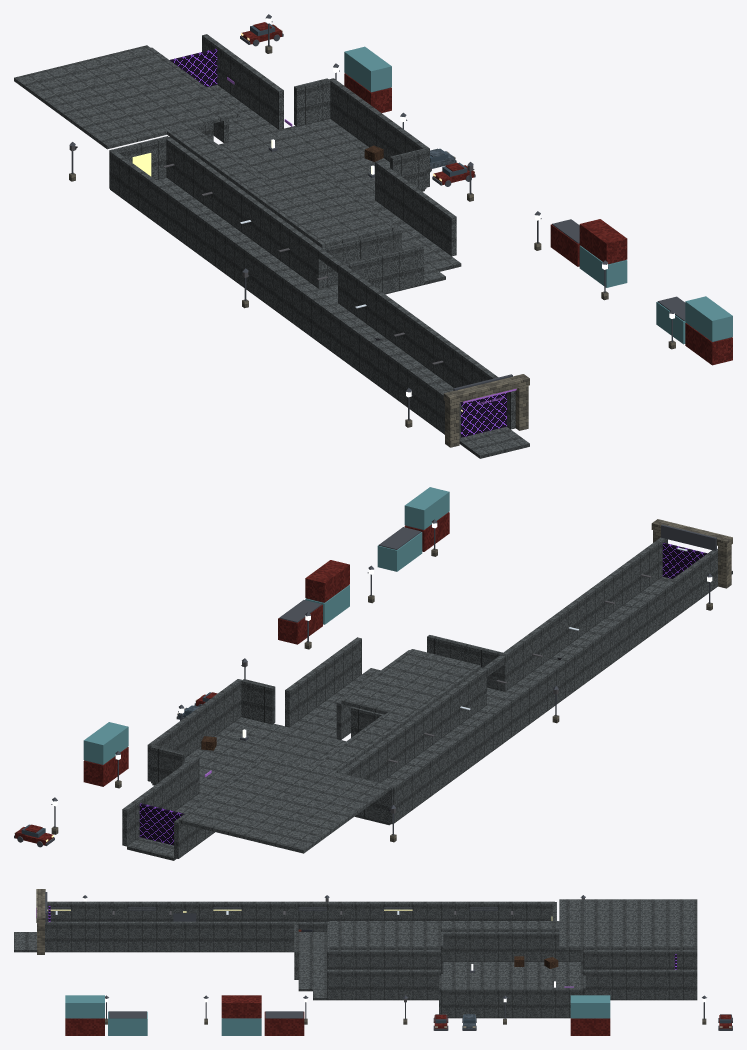
The model's file is MB_Route_C.fbx.
3 views of the same model, one above another, from view 1: azimuth 30°, elevation 25°; view 2: azimuth 150°, elevation 25°; view 3: azimuth 270°, elevation 25° (orthographic). The views are drawn at different scales.
Visible parts, largest first — view 1: MB_Route_C_Dressing_3_0, MB_Route_C_Dressing_4_0, MB_Route_C_Dressing_2_0, MB_Route_C_Dressing_1_0, MB_Route_C_Dressing_3_1, Floor_C_CombatPocket, Floor_C_EscapeGallery, MB_Route_C_Dressing_4_1, Floor_C_Main, MB_Route_C_Dressing_2_1, MB_Route_C_Dressing_0_0, MB_Route_C_Dressing_2_1.002 (+7 smaller); view 2: MB_Route_C_Dressing_3_0, MB_Route_C_Dressing_4_0, MB_Route_C_Dressing_3_1, MB_Route_C_Dressing_1_0, MB_Route_C_Dressing_2_0, Floor_C_CombatPocket, MB_Route_C_Dressing_4_1, Floor_C_EscapeGallery, Floor_C_Main, MB_Route_C_Dressing_1_1.001, MB_Route_C_Dressing_2_1.002, MB_Route_C_Dressing_2_1 (+9 smaller); view 3: MB_Route_C_Dressing_3_0, MB_Route_C_Dressing_3_1, MB_Route_C_Dressing_1_0, MB_Route_C_Dressing_4_0, MB_Route_C_Dressing_2_0, MB_Route_C_Dressing_4_1, Floor_C_CombatPocket, MB_Route_C_Dressing_2_1.002, MB_Route_C_Dressing_1_1.001, Floor_C_Main, Floor_C_SideOpening, ContainerStack.002 (+9 smaller).
Boxes of the visible parts, x1,y1,x2,y2 form: MB_Route_C_Dressing_3_0: [110, 113, 395, 273]; MB_Route_C_Dressing_4_0: [14, 45, 240, 188]; MB_Route_C_Dressing_2_0: [225, 221, 399, 358]; MB_Route_C_Dressing_1_0: [340, 305, 515, 441]; MB_Route_C_Dressing_3_1: [324, 78, 456, 256]; Floor_C_CombatPocket: [219, 119, 424, 201]; Floor_C_EscapeGallery: [207, 85, 461, 272]; MB_Route_C_Dressing_4_1: [151, 34, 330, 142]; Floor_C_Main: [156, 177, 529, 458]; MB_Route_C_Dressing_2_1: [317, 228, 423, 304]; MB_Route_C_Dressing_0_0: [443, 374, 529, 447]; MB_Route_C_Dressing_2_1.002: [550, 219, 627, 266]; MB_Route_C_Dressing_3_0: [300, 649, 502, 823]; MB_Route_C_Dressing_4_0: [178, 755, 393, 853]; MB_Route_C_Dressing_3_1: [147, 637, 408, 781]; MB_Route_C_Dressing_1_0: [555, 537, 717, 664]; MB_Route_C_Dressing_2_0: [447, 615, 610, 743]; Floor_C_CombatPocket: [152, 717, 345, 795]; MB_Route_C_Dressing_4_1: [122, 745, 246, 858]; Floor_C_EscapeGallery: [127, 668, 380, 860]; Floor_C_Main: [354, 571, 732, 825]; MB_Route_C_Dressing_1_1.001: [377, 487, 449, 571]; MB_Route_C_Dressing_2_1.002: [278, 560, 349, 644]; MB_Route_C_Dressing_2_1: [408, 635, 507, 691]; MB_Route_C_Dressing_3_0: [329, 901, 583, 961]; MB_Route_C_Dressing_3_1: [327, 933, 583, 1017]; MB_Route_C_Dressing_1_0: [45, 901, 213, 951]; MB_Route_C_Dressing_4_0: [552, 899, 697, 949]; MB_Route_C_Dressing_2_0: [213, 901, 383, 951]; MB_Route_C_Dressing_4_1: [581, 950, 697, 999]; Floor_C_CombatPocket: [441, 962, 583, 1018]; MB_Route_C_Dressing_2_1.002: [221, 995, 304, 1035]; MB_Route_C_Dressing_1_1.001: [65, 995, 147, 1035]; Floor_C_Main: [14, 932, 326, 952]; Floor_C_SideOpening: [298, 941, 326, 991]; ContainerStack.002: [570, 995, 610, 1018].
Size of the model in its own units: 3775 by 631 by 10102.
21 materials, 8 textured.
